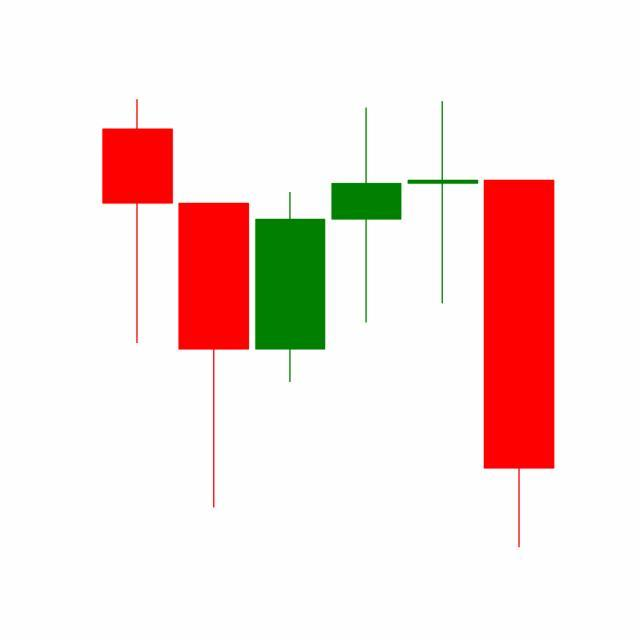Spinning Top: (404, 99, 482, 307)
